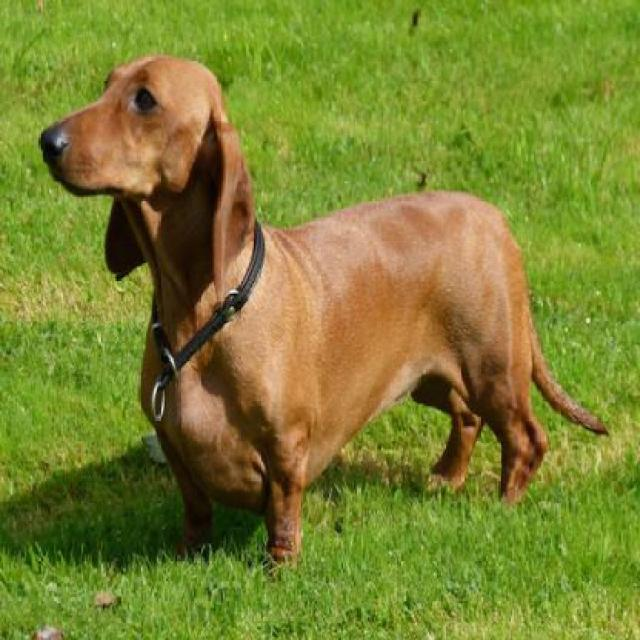Dog: (40, 55, 612, 574)
